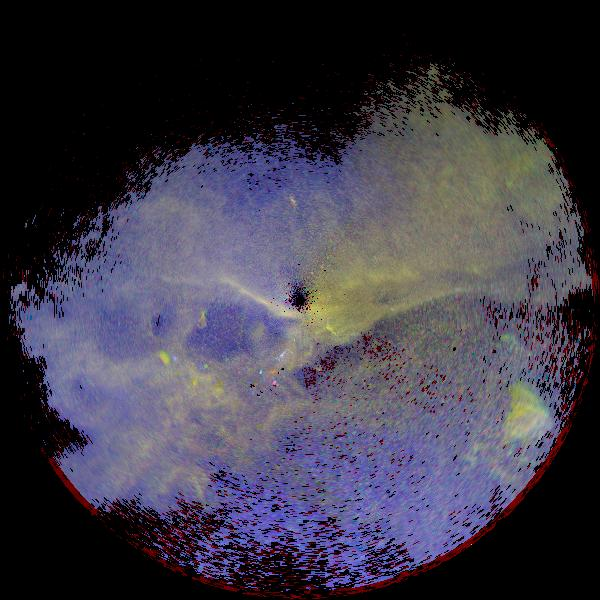roost: (147, 350, 177, 380), (180, 375, 204, 399)
